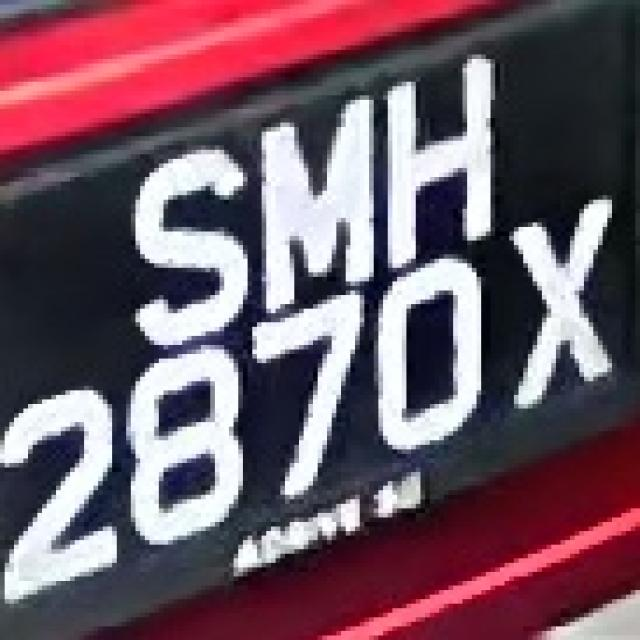0: (374, 259, 491, 458)
2: (14, 377, 131, 613)
7: (224, 300, 360, 508)
8: (108, 326, 262, 544)
H: (374, 54, 514, 259)
M: (248, 95, 383, 300)
S: (121, 136, 252, 350)
X: (486, 190, 630, 418)
